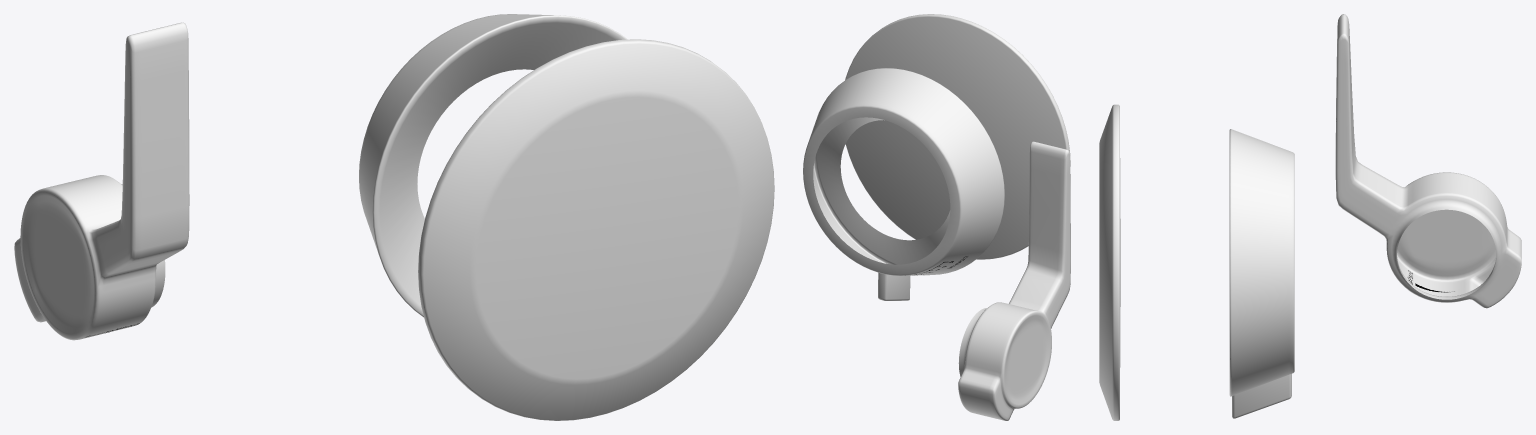
Rendered from coffee_machine_main_group_main_model_11.obj.
3 renders of one model, left to right at view 1: azimuth 30°, elevation 25°; view 2: azimuth 150°, elevation 25°; view 3: azimuth 270°, elevation 25°, orthographic. The views are drawn at different scales.
Bounding box in the file's own units: 0.4463 × 0.3254 × 0.42.
Materials: 1 (1 with a texture image).
